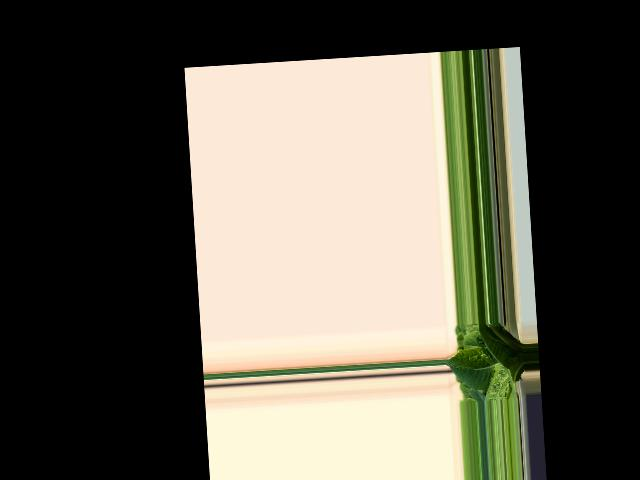lettuce: (451, 322, 526, 395)
